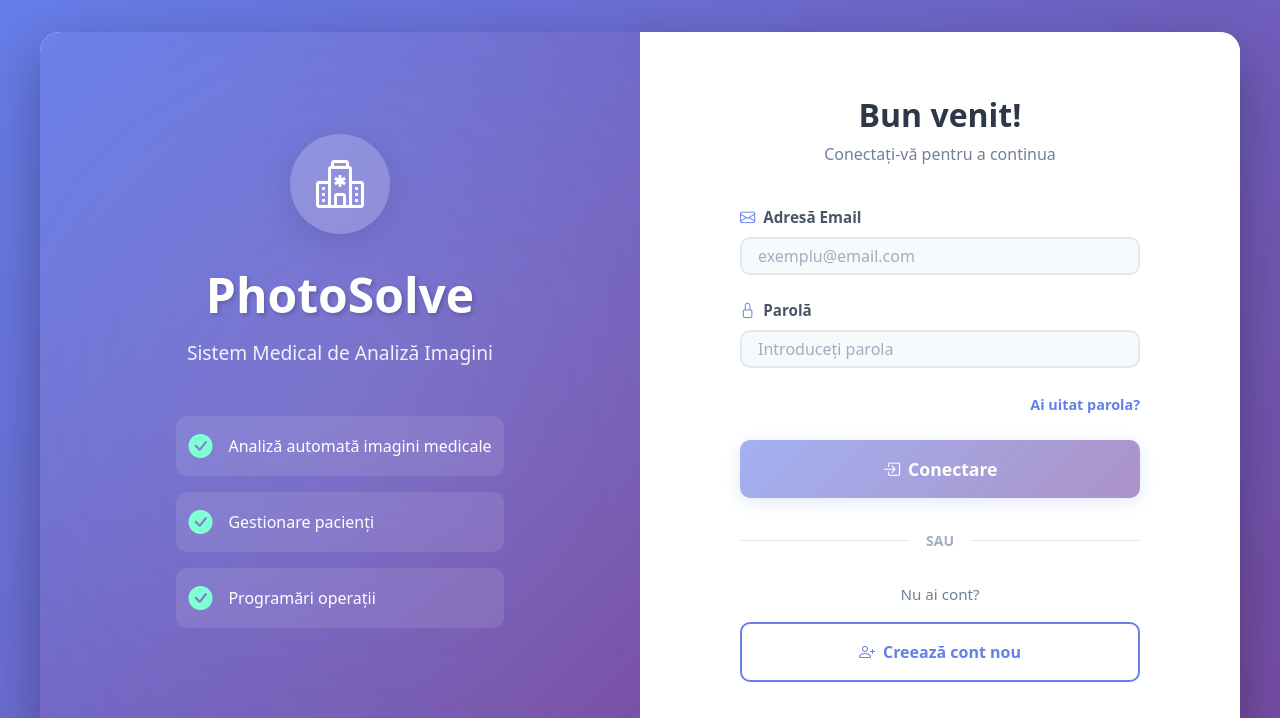
Mesagerie Tests › 18. Should open chat window when selecting a user
Type "roxanaelena111111@gmail.com" into the field labelled "Adresă Email" at x=940, y=256, box [740, 237, 1140, 275]
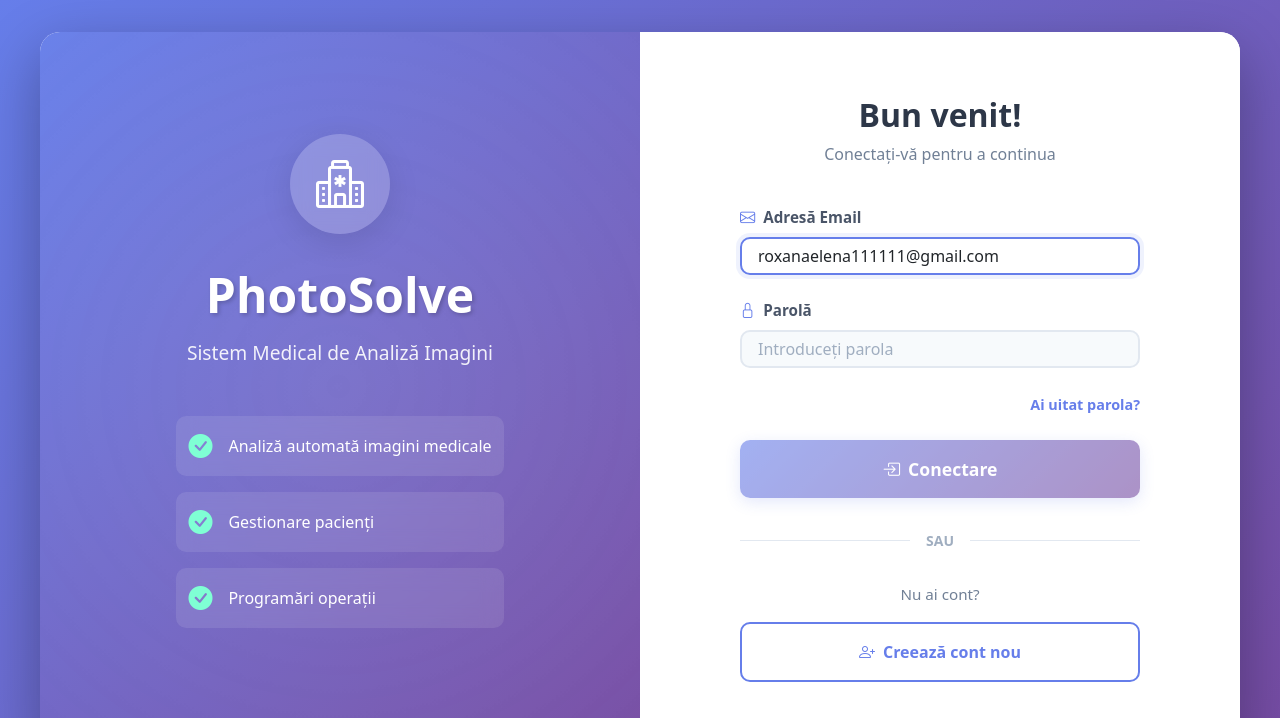
Type "123456" into the password field labelled "Parolă" at x=940, y=349, box [740, 330, 1140, 368]
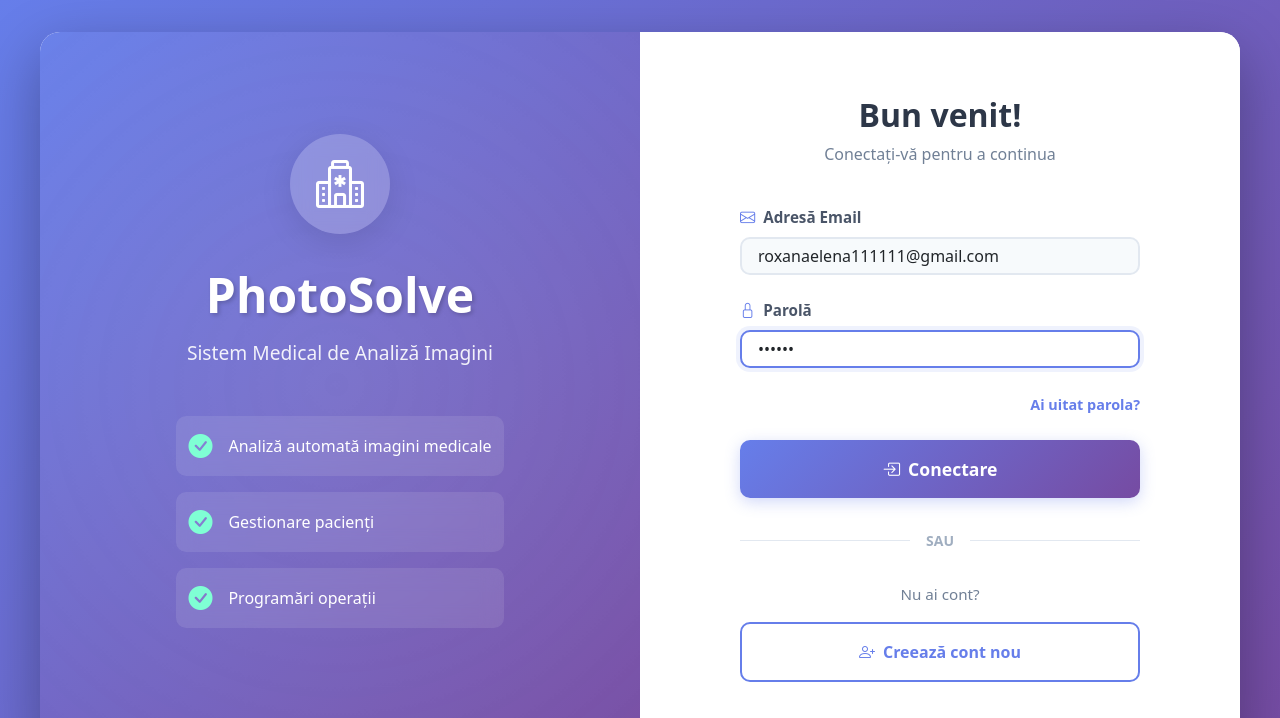
Click the submit button at x=940, y=469, box [740, 440, 1140, 498]
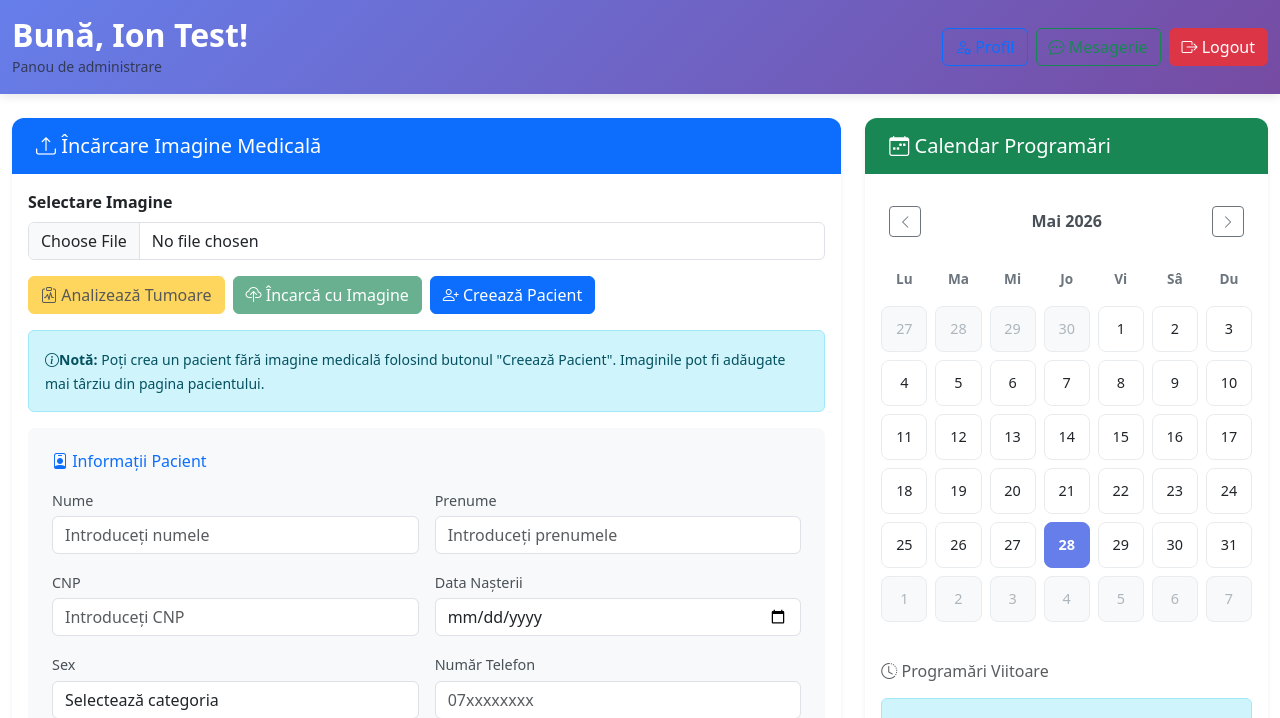
Open "/mesagerie"
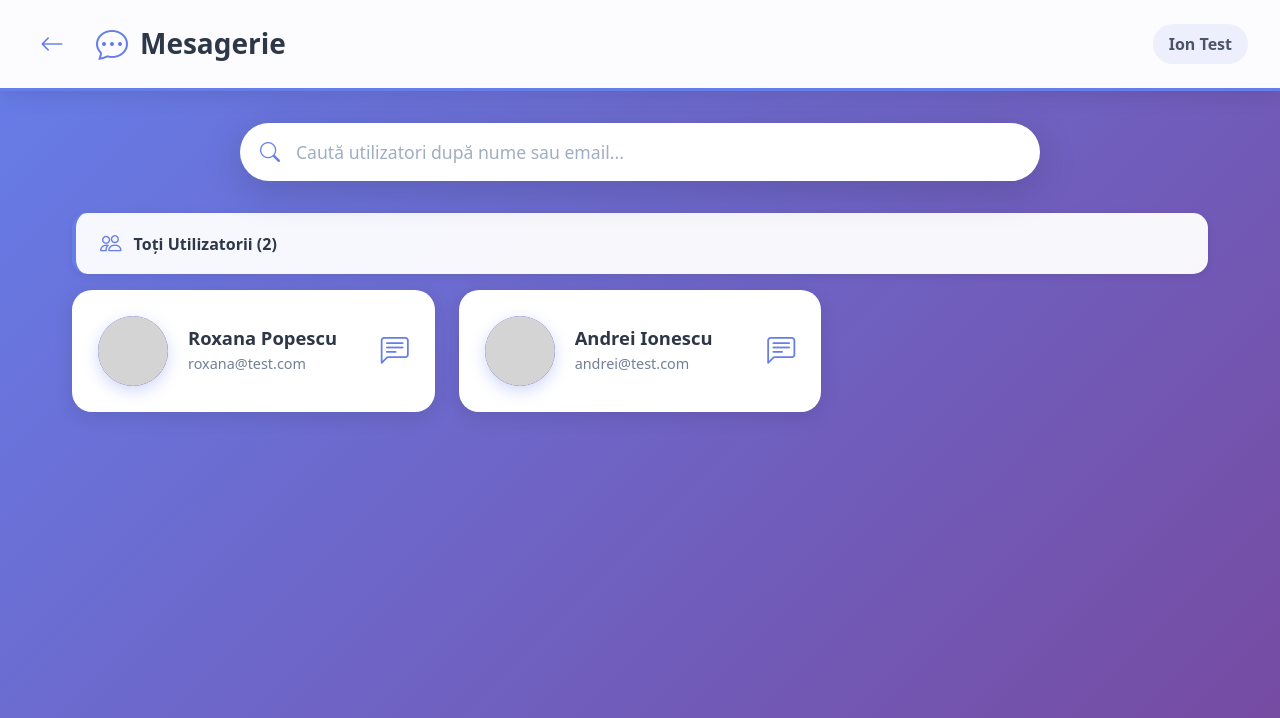
Click the element with class "user-card" showing "Roxana Popescu roxana@test.com" at x=254, y=351, box [72, 290, 435, 412]
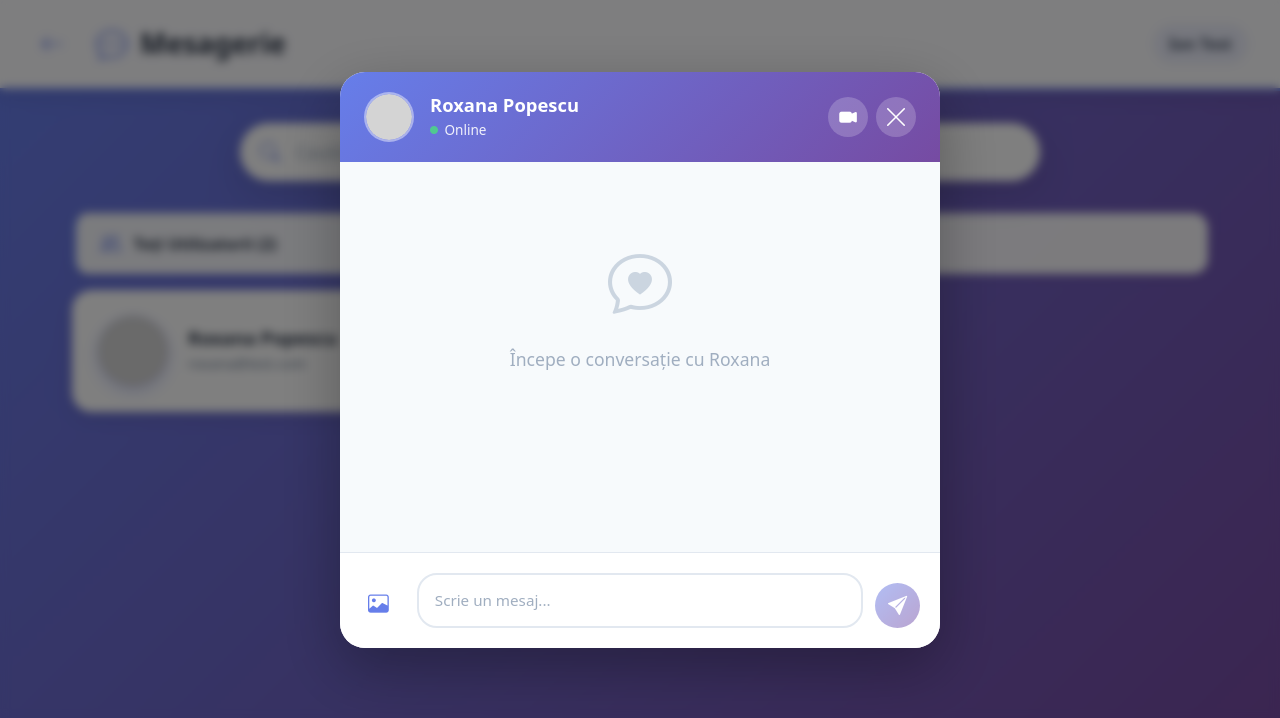
Expected: the element with class "chat-window" is shown, [340, 72, 940, 648]
Expected: the element with class "chat-messages" is shown, [340, 162, 940, 552]
